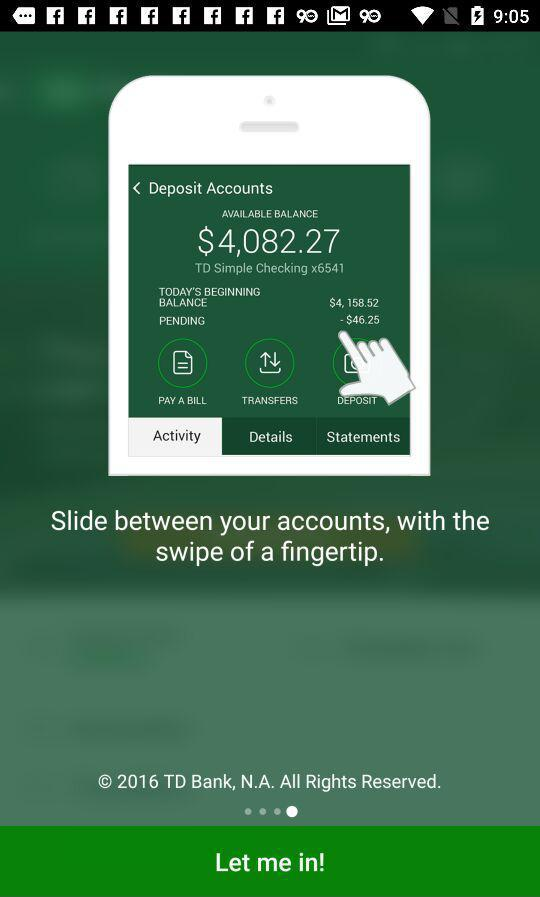Image: (108, 75, 431, 477)
PageIndicator: (244, 805, 299, 818)
Text: (51, 509, 490, 567), (98, 773, 441, 793)
TextButton: (1, 826, 540, 897)
UpperTaskBar: (1, 1, 540, 33)
